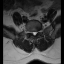CCS_stenosis: (33, 29, 35, 37)
LFS_stenosis: (37, 28, 39, 34)
LLS_normal: (35, 29, 37, 36)
RFS_stenosis: (29, 28, 31, 35)
RLS_normal: (31, 29, 33, 36)
